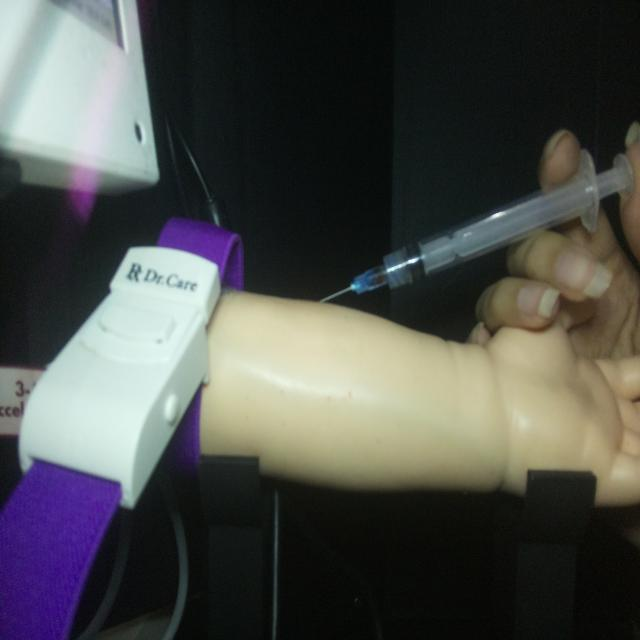16 degrees: (317, 129, 637, 306)
